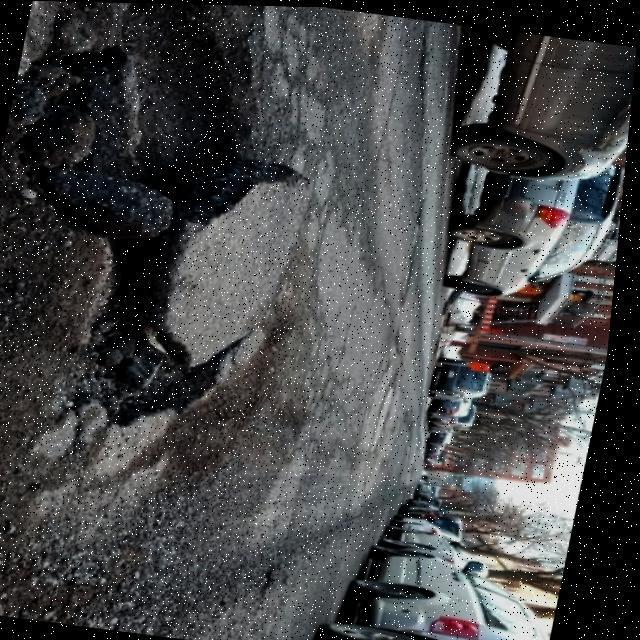pothole: (96, 2, 265, 188), (75, 304, 242, 436)
